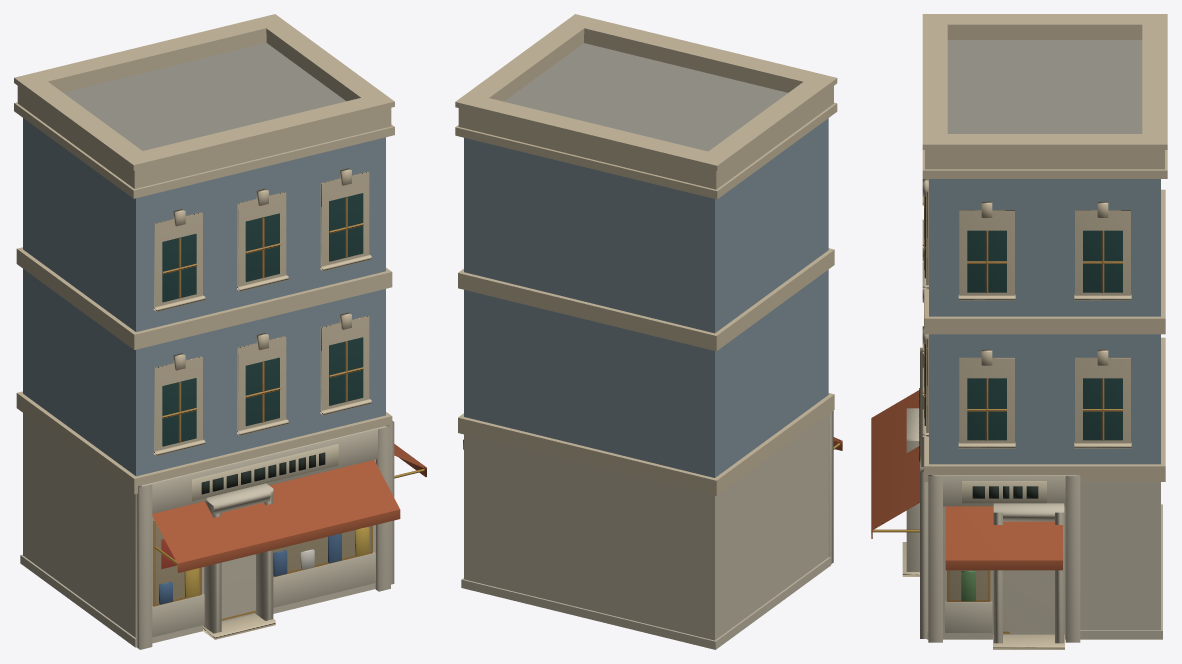
File: city_sage_3.glb
3 views of the same model, side by side, from view 1: azimuth 30°, elevation 25°; view 2: azimuth 150°, elevation 25°; view 3: azimuth 270°, elevation 25° (orthographic). The views are drawn at different scales.
Parts seen in each view (by area): view 1: city_sage_3; view 2: city_sage_3; view 3: city_sage_3.
Boxes of the visible parts, bbox=[...] form: city_sage_3: bbox=[14, 14, 426, 649]; city_sage_3: bbox=[455, 14, 842, 649]; city_sage_3: bbox=[871, 14, 1167, 649].
Size of the model in its own units: 5.41 by 8.24 by 4.46.
